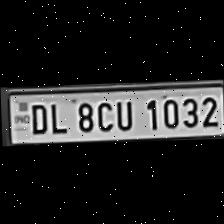0: (158, 93, 178, 127)
1: (138, 94, 158, 129)
2: (198, 92, 218, 125)
3: (178, 92, 196, 126)
8: (72, 97, 94, 131)
C: (92, 96, 112, 130)
D: (26, 100, 46, 133)
L: (46, 99, 68, 134)
U: (112, 95, 134, 130)
